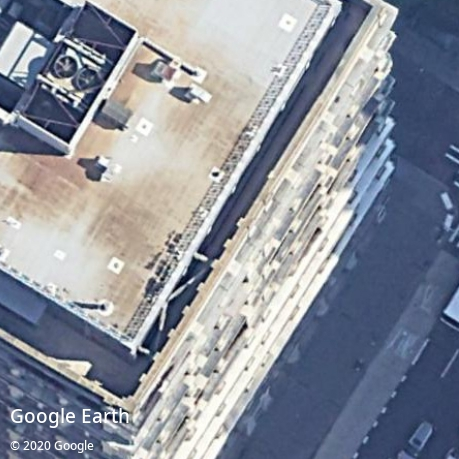Vent: (76, 67, 101, 91), (55, 55, 78, 79)
